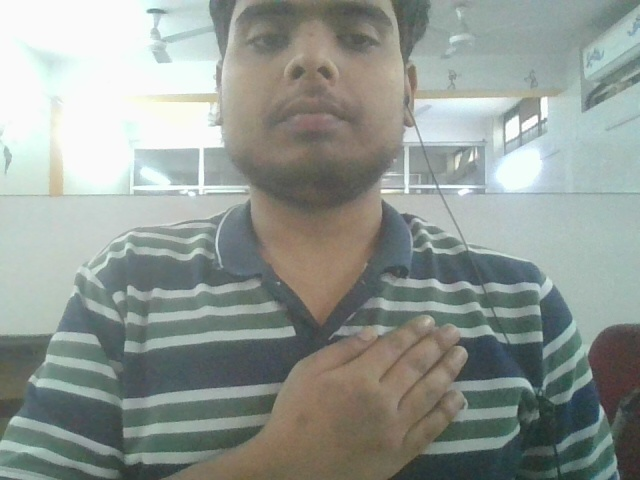Please: (234, 303, 476, 472)
